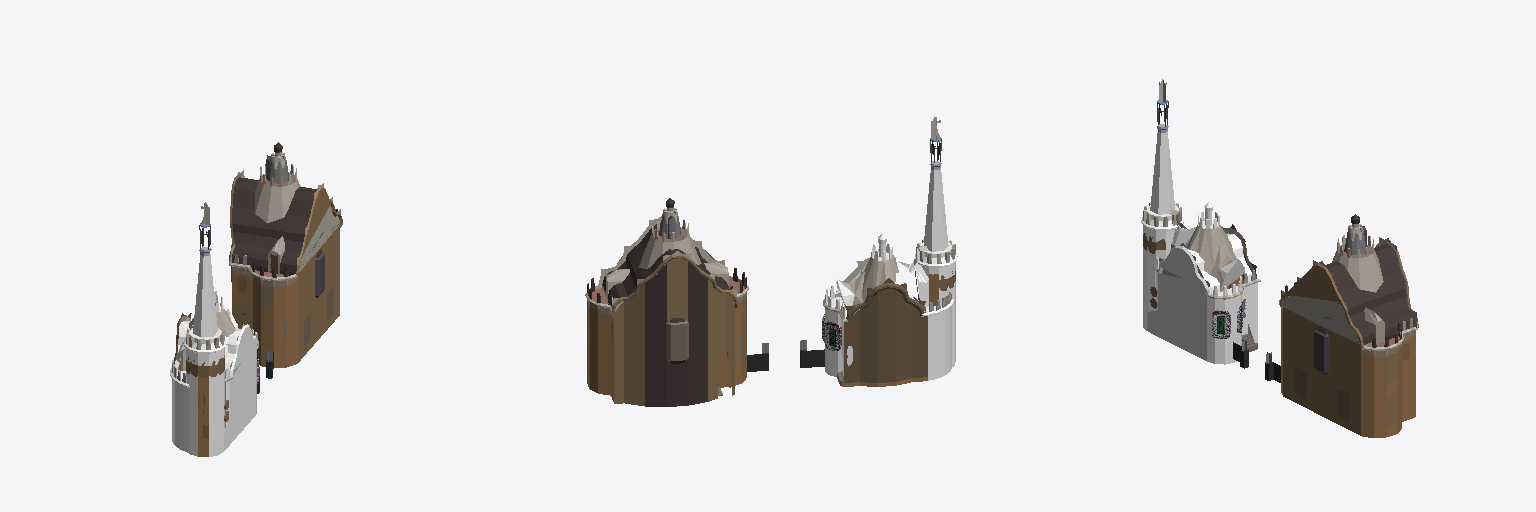
3 renders of one model, left to right at view 1: azimuth 30°, elevation 25°; view 2: azimuth 150°, elevation 25°; view 3: azimuth 270°, elevation 25°, orthographic.
Parts seen in each view (by area): view 1: Mesh36 Group1 Model, Mesh34 Group1 Model; view 2: Mesh36 Group1 Model, Mesh34 Group1 Model; view 3: Mesh36 Group1 Model, Mesh34 Group1 Model.
Boxes of the visible parts, box(x1,y1,x2,y2) form: Mesh36 Group1 Model: box(229, 152, 342, 378); Mesh34 Group1 Model: box(170, 247, 258, 456); Mesh36 Group1 Model: box(585, 207, 768, 406); Mesh34 Group1 Model: box(822, 161, 957, 386); Mesh36 Group1 Model: box(1265, 224, 1418, 437); Mesh34 Group1 Model: box(1141, 124, 1260, 364).
Bounding box in the file's own units: 29.55 × 26.65 × 27.19.
Materials: 43 (1 with a texture image).